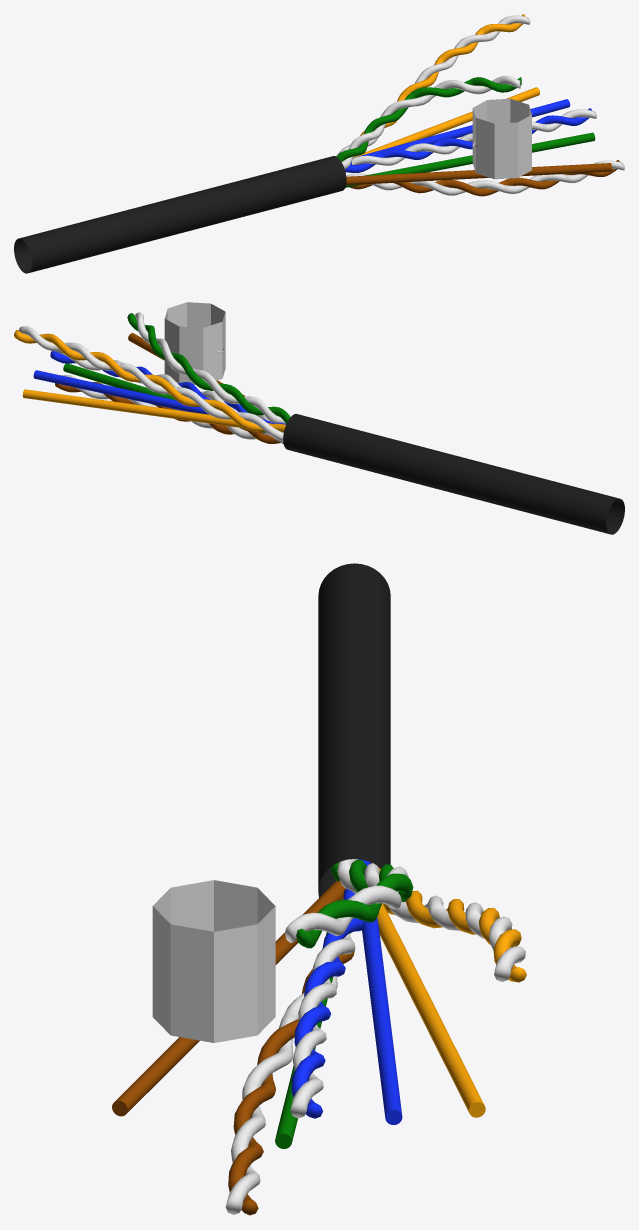
The model's file is Cross over cable - Copy.fbx.
3 views of the same model, one above another, from view 1: azimuth 30°, elevation 25°; view 2: azimuth 150°, elevation 25°; view 3: azimuth 270°, elevation 25° (orthographic). The views are drawn at different scales.
Parts seen in each view (by area): view 1: cable, Cylinder.002, white-green, white -rown, white-blue, white-orange, brown, green, orange, blue; view 2: cable, white-orange, Cylinder.002, white-green, orange, blue, white -rown, white-blue, green; view 3: cable, Cylinder.002, white -rown, white-blue, white-green, white-orange, orange, blue, brown, green.
Part boxes in pixels (x1,y1,x2,y2): cable: (14, 156, 346, 273); Cylinder.002: (472, 98, 531, 179); white-green: (336, 75, 521, 168); white -rown: (346, 160, 624, 196); white-blue: (345, 108, 596, 172); white-orange: (336, 14, 530, 156); brown: (346, 163, 611, 185); green: (345, 132, 595, 187); orange: (353, 87, 539, 157); blue: (350, 99, 570, 164); cable: (283, 414, 624, 534); white-orange: (14, 326, 285, 440); Cylinder.002: (164, 302, 225, 384); white-green: (127, 312, 290, 423); orange: (22, 389, 271, 428); blue: (33, 370, 286, 424); white -rown: (55, 375, 283, 444); white-blue: (50, 351, 285, 423); green: (63, 363, 264, 432); cable: (318, 563, 390, 897); Cylinder.002: (152, 880, 275, 1042); white -rown: (225, 893, 354, 1215); white-blue: (290, 888, 363, 1118); white-green: (284, 859, 413, 948); white-orange: (378, 867, 526, 982); orange: (377, 903, 485, 1117); blue: (358, 859, 402, 1124); brown: (112, 880, 345, 1116); green: (275, 932, 332, 1148).
Bounding box in the file's own units: 2145 × 421 × 676.
